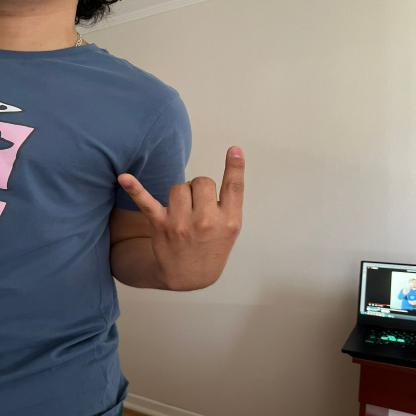U: (115, 142, 253, 286)
